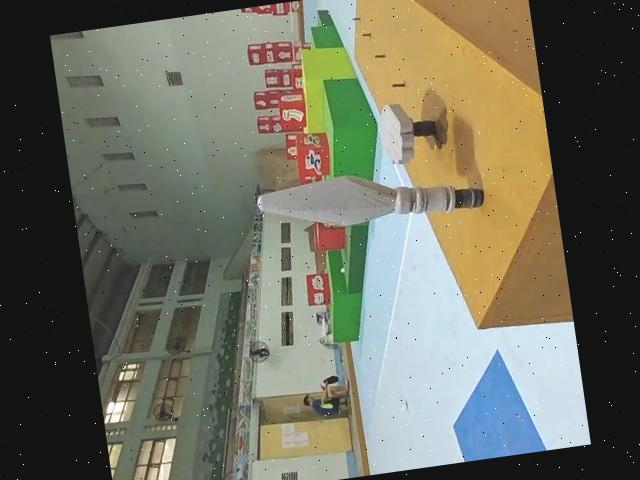Hand: (373, 94, 433, 169)
Sph: (252, 155, 488, 247)
